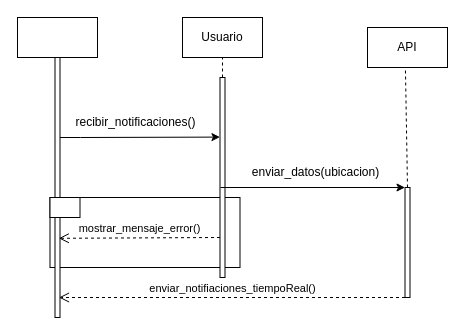
This 465x335 diagram has some shape labels left out. Here are the shapes that lost their labels. From the top down, the centre of each, then its label:
At (57,37): "Cliente".
At (64,207): "ALT".
